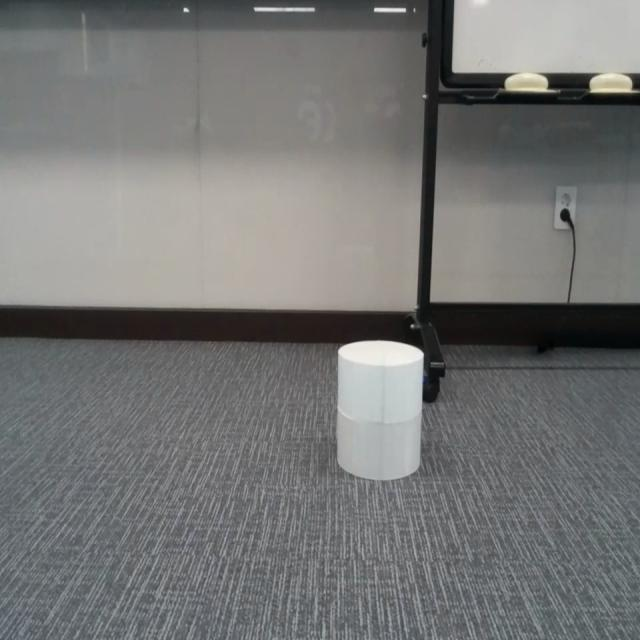cylinder: (336, 339, 424, 482)
